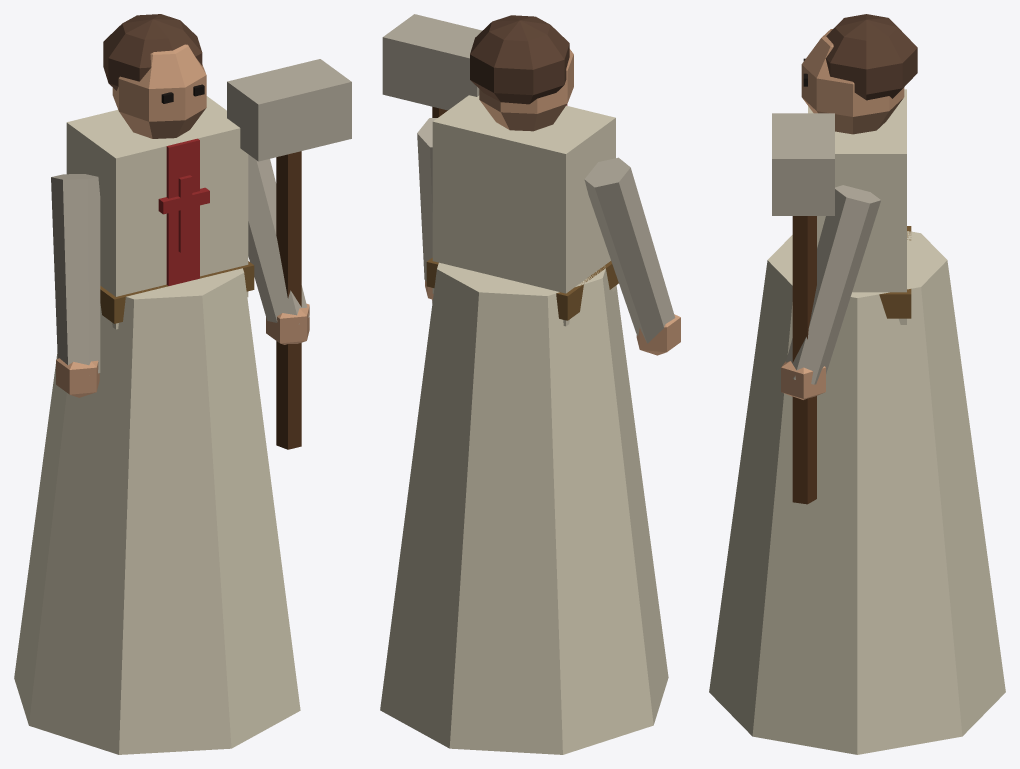
Rendered from kleriker.glb.
3 views of the same model, side by side, from view 1: azimuth 30°, elevation 25°; view 2: azimuth 150°, elevation 25°; view 3: azimuth 270°, elevation 25° (orthographic).
Size of the model in its own units: 0.72 by 1.65 by 0.66.
1 material, 1 textured.
